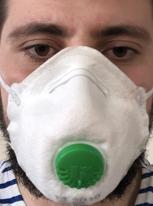with_mask: (2, 1, 153, 206)
